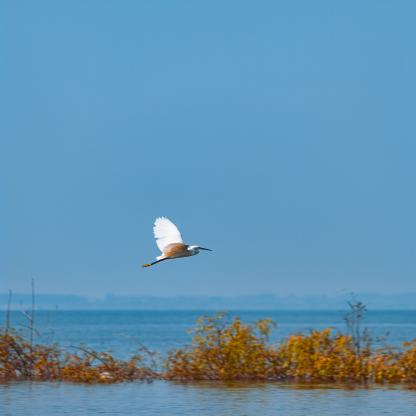bird: (140, 215, 214, 269)
